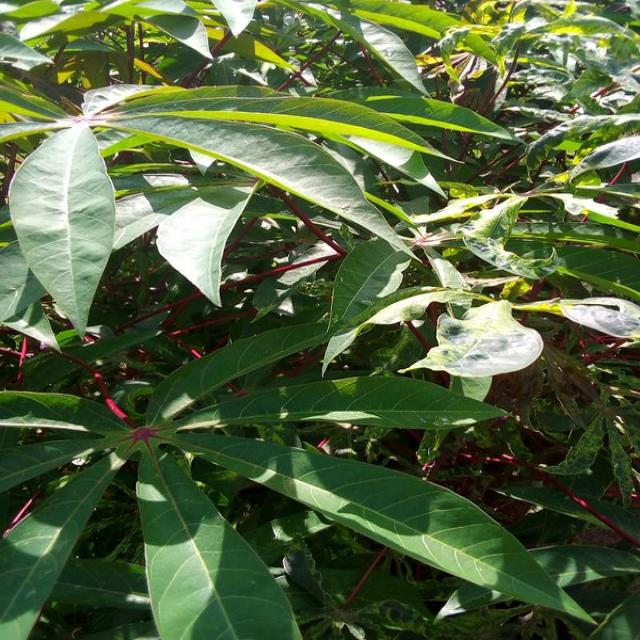cassava leaf: (0, 1, 638, 637), (134, 444, 302, 638), (8, 118, 117, 340)
